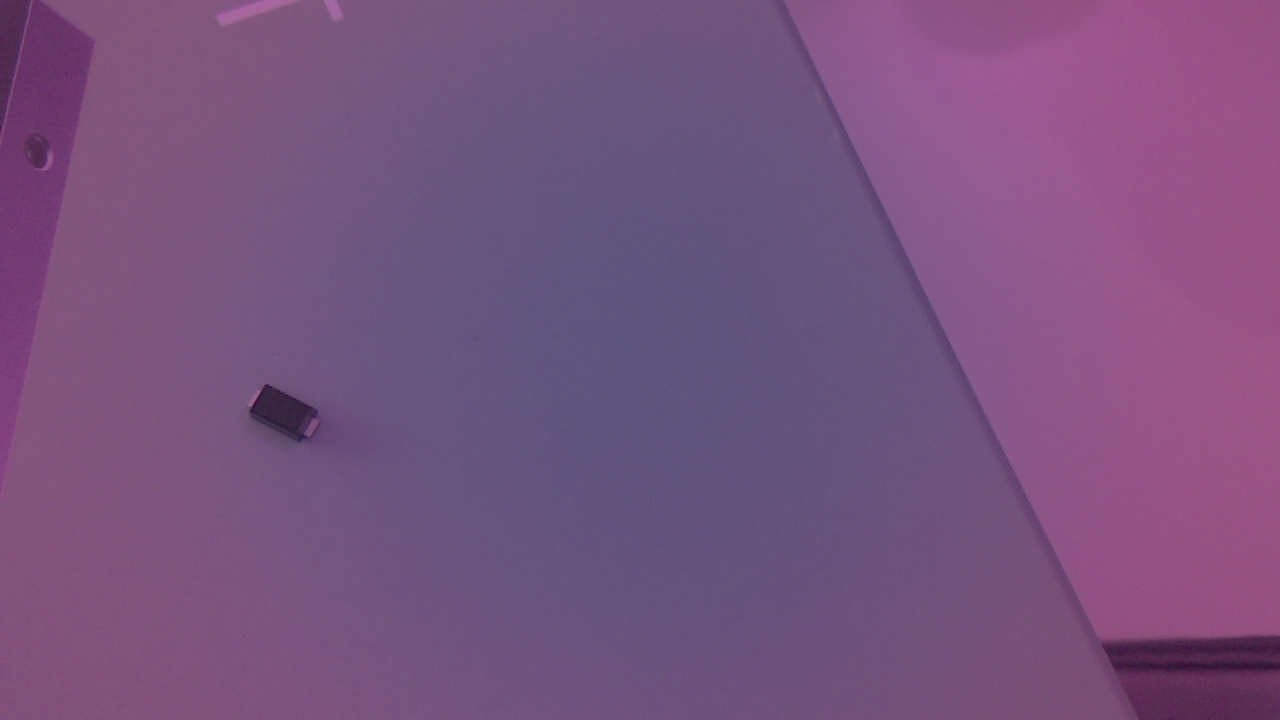Diode: (246, 382, 330, 456)
